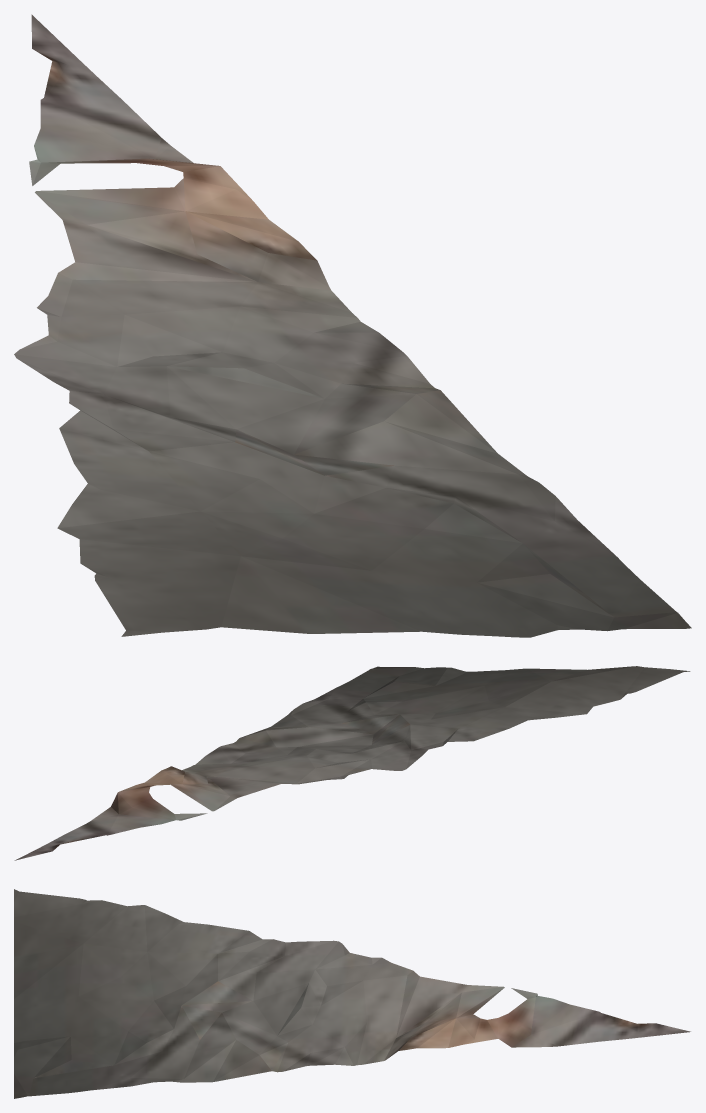
3 views of the same model, one above another, from view 1: azimuth 30°, elevation 25°; view 2: azimuth 150°, elevation 25°; view 3: azimuth 270°, elevation 25° (orthographic). The views are drawn at different scales.
Bounding box in the file's own units: 0.3065 × 0.067 × 0.6143.
1 material, 1 textured.
